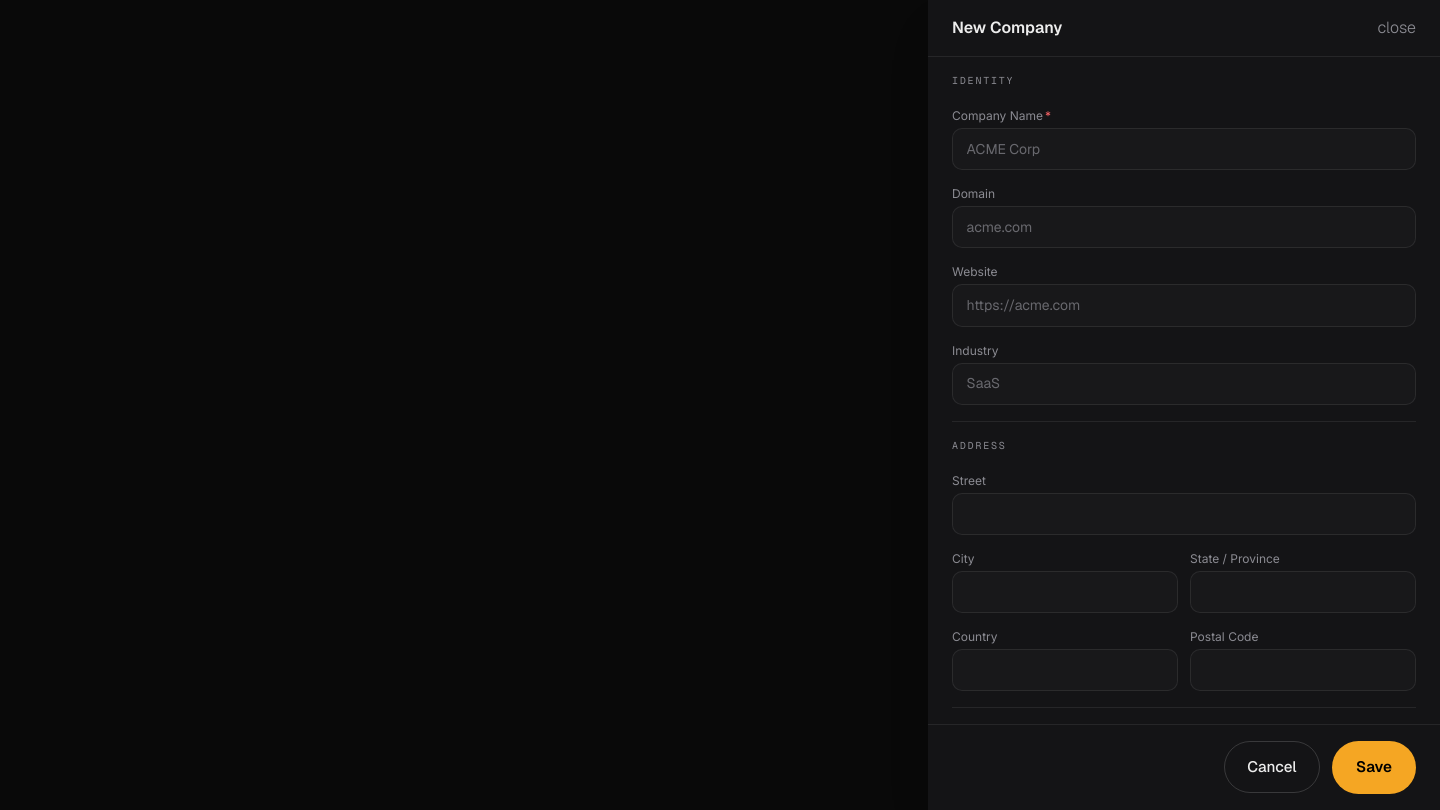
CompanyEditDrawer › shows a validation error when name is empty on submit
Step 1. Click the button "Save" → click(1374, 767), box [1332, 741, 1416, 794]
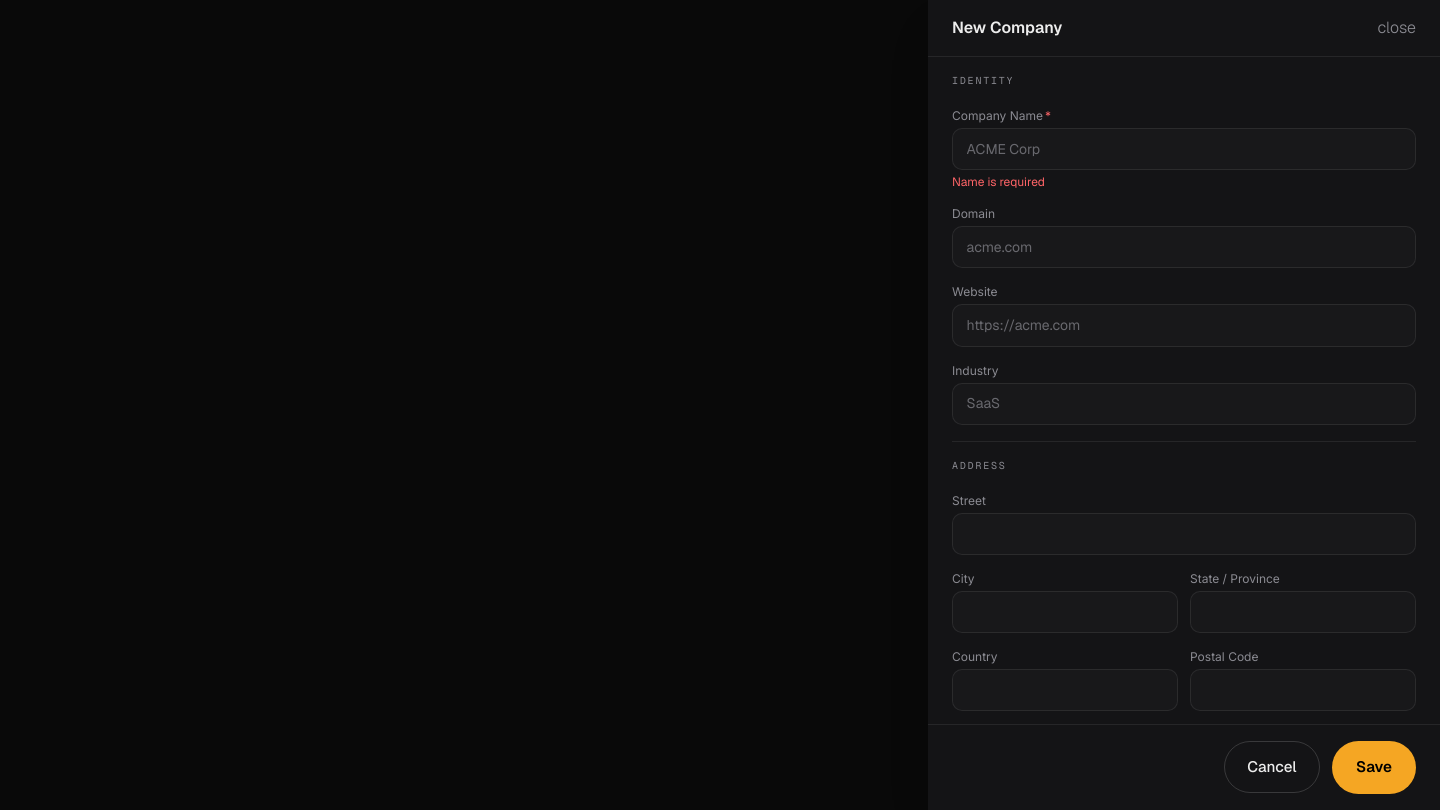
Expected: the text "Name is required" is shown, [952, 174, 1045, 190]
